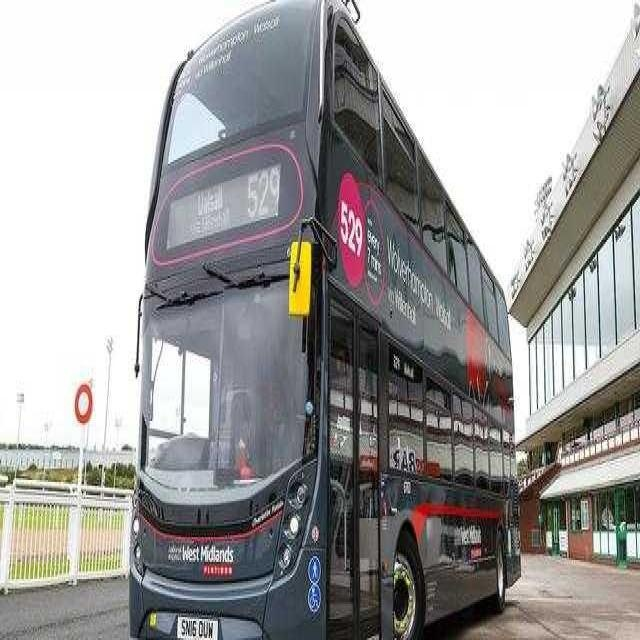Bus: (122, 0, 526, 640)
